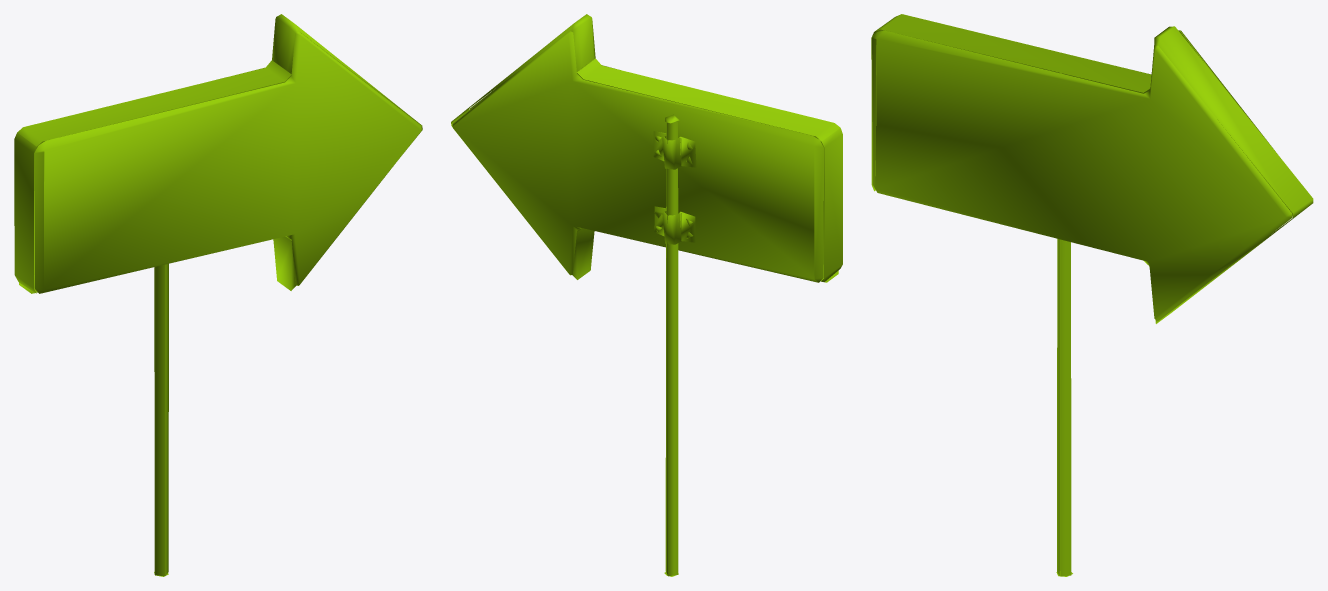
The model's file is Pointer.fbx.
The picture shows the model from 3 angles, left to right: view 1: azimuth 30°, elevation 25°; view 2: azimuth 150°, elevation 25°; view 3: azimuth 330°, elevation 25°; orthographic projection. The views are drawn at different scales.
Visible parts, largest first — view 1: Pointer; view 2: Pointer; view 3: Pointer.
Boxes of the visible parts, x1,y1,x2,y2 form: Pointer: (14,14,422,576); Pointer: (451,14,842,576); Pointer: (871,14,1313,576).
Size of the model in its own units: 38.44 by 50.92 by 5.66.
